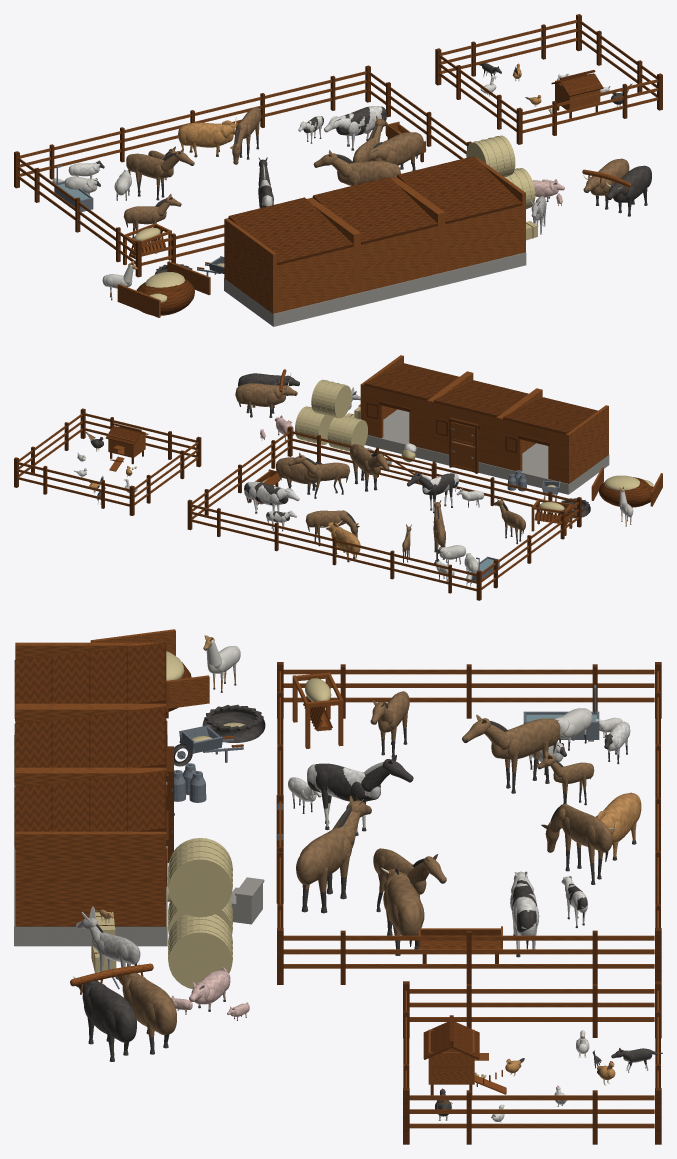
Rendered from house.glb.
3 views of the same model, one above another, from view 1: azimuth 30°, elevation 25°; view 2: azimuth 150°, elevation 25°; view 3: azimuth 270°, elevation 25° (orthographic). The views are drawn at different scales.
Visible parts, largest first — view 1: 024-loose-box-front/1, 026-loose-box-front/1, 025-loose-box-front/1, 025-loose-box-front/2, 026-loose-box-front/2, 024-loose-box-front/2, 024-loose-box-front/0, 031-draught-horse/0, 050-muck-heap/2, 039-highland-cow/0, 055-hay-bale-round/0, 037-beef-bull/0 (+37 smaller); view 2: 024-loose-box-front/1, 026-loose-box-front/1, 025-loose-box-front/1, 026-loose-box-front/2, 024-loose-box-front/2, 025-loose-box-front/2, 024-loose-box-front/0, 026-loose-box-front/0, 055-hay-bale-round/0, 067-oxen-pair-yoked/0, 053-hay-bale-round/0, 054-hay-bale-round/0 (+35 smaller); view 3: 026-loose-box-front/1, 026-loose-box-front/2, 024-loose-box-front/2, 025-loose-box-front/2, 055-hay-bale-round/0, 054-hay-bale-round/0, 031-draught-horse/0, 067-oxen-pair-yoked/1, 026-loose-box-front/0, 028-horse-standing/0, 034-horse-standing-piebald/0, 067-oxen-pair-yoked/0 (+41 smaller).
Part boxes in pixels (<box>): 024-loose-box-front/1: <box>224,198,357,313</box>; 026-loose-box-front/1: <box>393,157,525,272</box>; 025-loose-box-front/1: <box>309,178,441,293</box>; 025-loose-box-front/2: <box>312,177,437,244</box>; 026-loose-box-front/2: <box>397,156,522,223</box>; 024-loose-box-front/2: <box>228,197,353,265</box>; 024-loose-box-front/0: <box>224,278,357,326</box>; 031-draught-horse/0: <box>313,150,400,185</box>; 050-muck-heap/2: <box>117,261,210,317</box>; 039-highland-cow/0: <box>177,120,237,154</box>; 055-hay-bale-round/0: <box>466,135,515,176</box>; 037-beef-bull/0: <box>369,132,423,165</box>; 024-loose-box-front/1: <box>499,389,608,483</box>; 026-loose-box-front/1: <box>360,355,469,449</box>; 025-loose-box-front/1: <box>430,372,538,466</box>; 026-loose-box-front/2: <box>364,363,459,419</box>; 024-loose-box-front/2: <box>503,397,597,453</box>; 025-loose-box-front/2: <box>433,380,528,436</box>; 024-loose-box-front/0: <box>499,443,609,494</box>; 026-loose-box-front/0: <box>365,409,429,460</box>; 055-hay-bale-round/0: <box>311,379,351,418</box>; 067-oxen-pair-yoked/0: <box>235,383,297,409</box>; 053-hay-bale-round/0: <box>327,415,367,451</box>; 054-hay-bale-round/0: <box>295,406,333,444</box>; 026-loose-box-front/1: <box>15,770,166,926</box>; 026-loose-box-front/2: <box>14,770,168,886</box>; 024-loose-box-front/2: <box>14,642,168,746</box>; 025-loose-box-front/2: <box>14,706,168,810</box>; 055-hay-bale-round/0: <box>168,838,232,917</box>; 054-hay-bale-round/0: <box>168,914,232,989</box>; 031-draught-horse/0: <box>296,795,370,892</box>; 067-oxen-pair-yoked/1: <box>76,976,169,1061</box>; 026-loose-box-front/0: <box>14,862,167,946</box>; 028-horse-standing/0: <box>462,714,560,772</box>; 034-horse-standing-piebald/0: <box>307,755,413,835</box>; 067-oxen-pair-yoked/0: <box>116,972,176,1037</box>.
Bounding box in the file's own units: 26.43 × 3.07 × 15.45.
16 materials, 14 textured.
